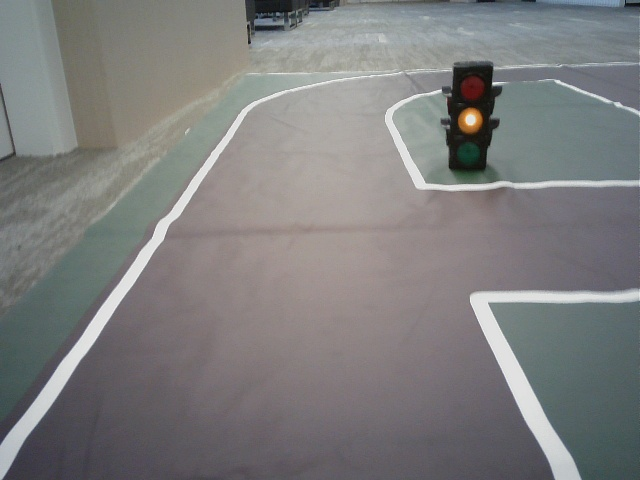yellow: (453, 68, 487, 166)
